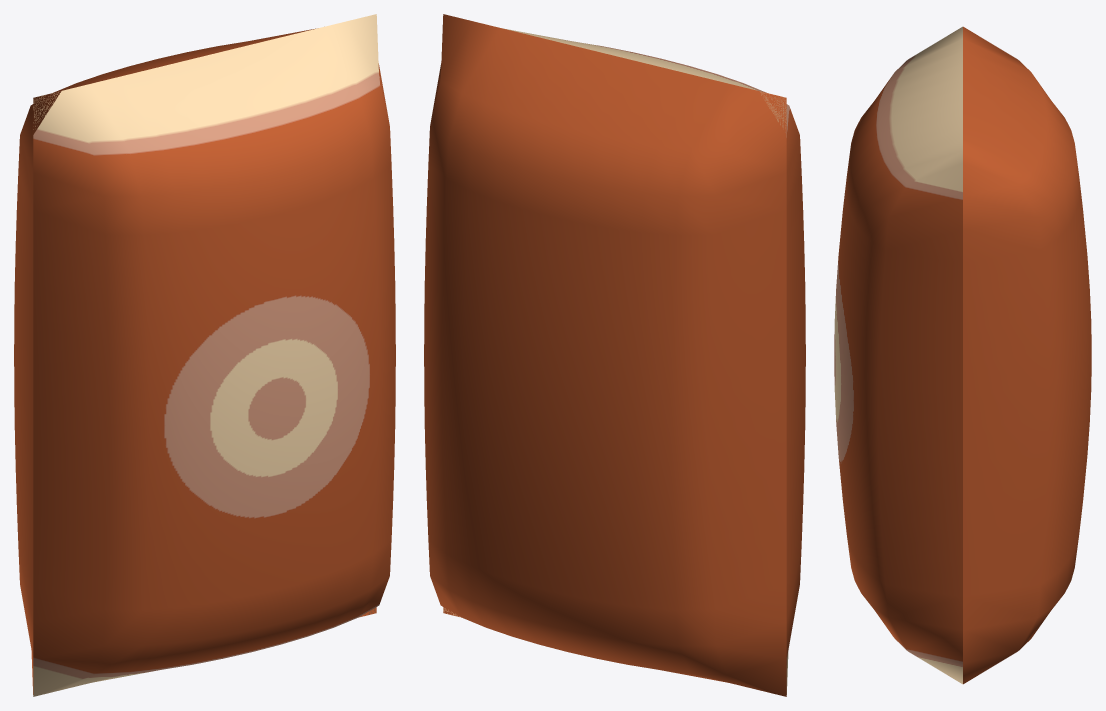
Rendered from Lentils.fbx.
The picture shows the model from 3 angles, left to right: view 1: azimuth 30°, elevation 25°; view 2: azimuth 150°, elevation 25°; view 3: azimuth 270°, elevation 25°; orthographic projection. The views are drawn at different scales.
Visible parts, largest first — view 1: Lentils; view 2: Lentils; view 3: Lentils.
Part boxes in pixels (x1,y1,x2,y2): Lentils: (14,14,395,696); Lentils: (424,14,805,696); Lentils: (834,26,1091,684).
Bounding box in the file's own units: 0.12 × 0.2 × 0.0875.
2 materials, 1 textured.
